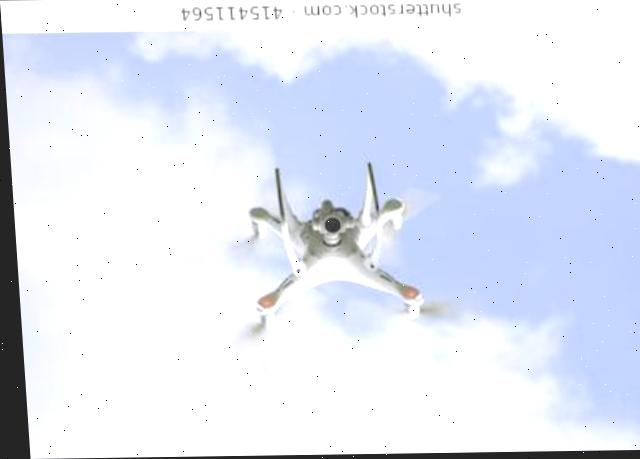drone: (147, 158, 471, 357)
